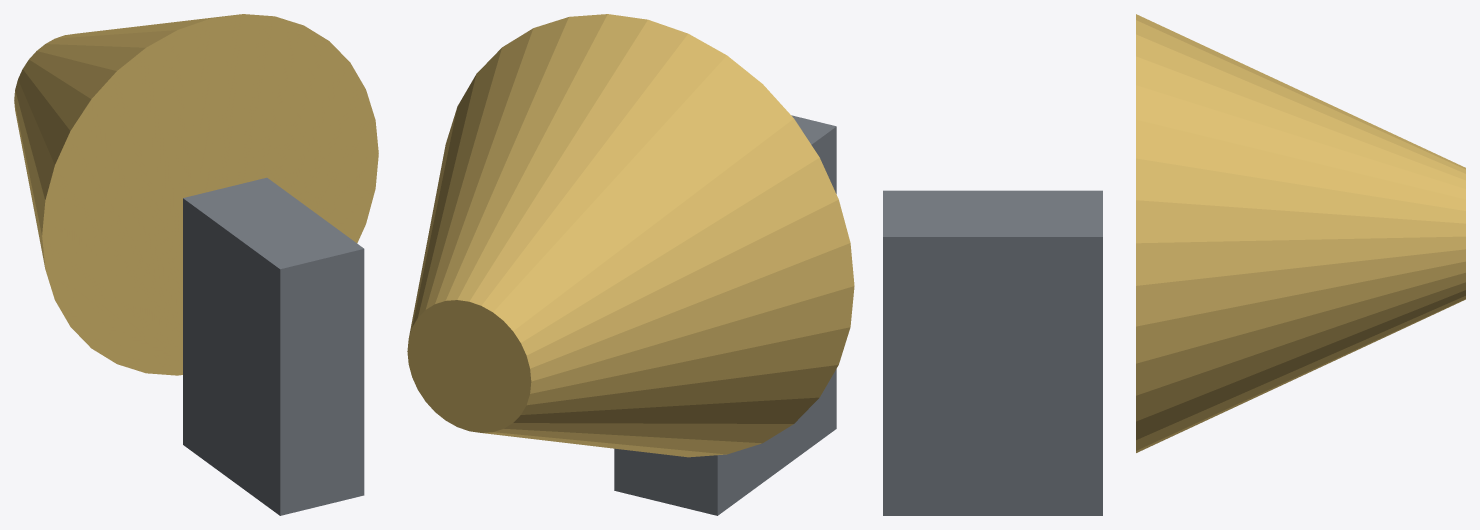
File: SM_Sonic_Microwave.fbx
The picture shows the model from 3 angles, left to right: view 1: azimuth 30°, elevation 25°; view 2: azimuth 150°, elevation 25°; view 3: azimuth 270°, elevation 25°; orthographic projection. The views are drawn at different scales.
Visible parts, largest first — view 1: SM_Sonic_Microwave; view 2: SM_Sonic_Microwave; view 3: SM_Sonic_Microwave.
Part boxes in pixels (x1,y1,x2,y2): SM_Sonic_Microwave: (14,14,378,515); SM_Sonic_Microwave: (407,14,854,515); SM_Sonic_Microwave: (883,14,1465,515).
Size of the model in its own units: 0.2 by 0.23 by 0.265.
